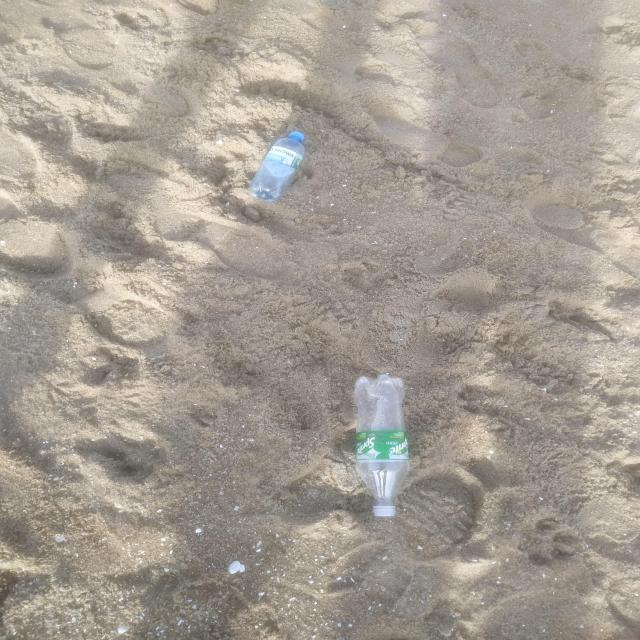litter: (353, 378, 407, 518), (251, 131, 311, 200)
